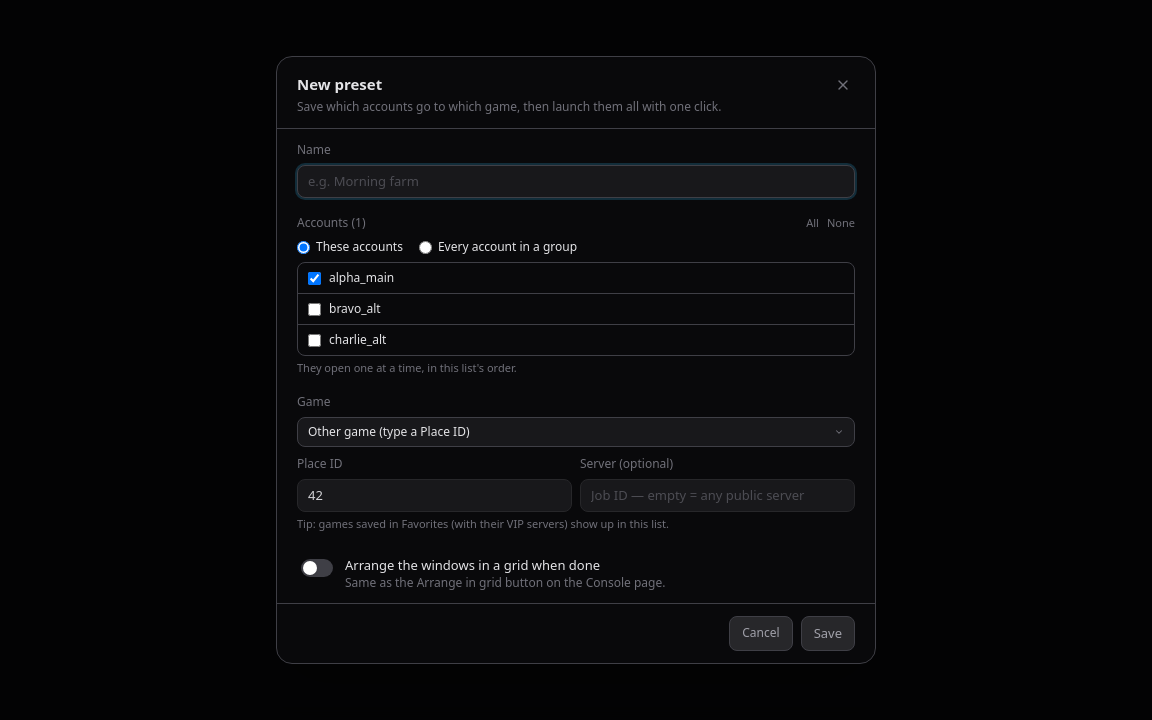
Test: PresetsDialog — editor › does not save without a name and says why
The width and height of the screenshot is (1152, 720).
Click the button "Save" at (828, 633), box [801,616,855,651]
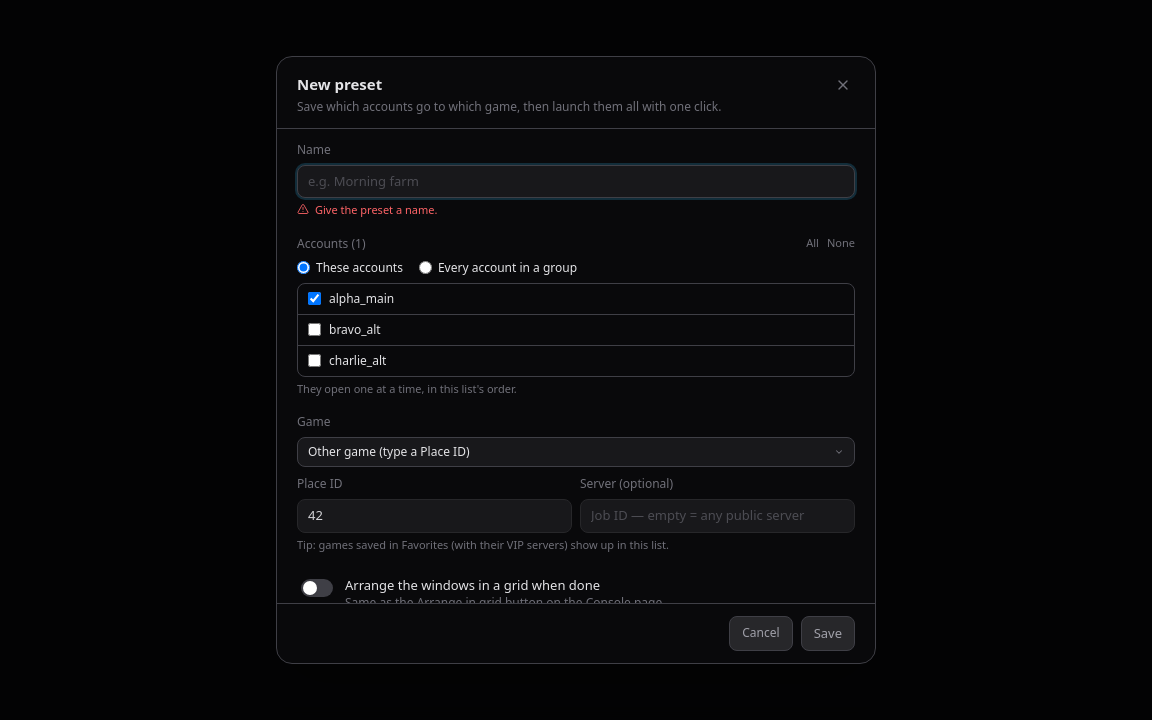
Result: the text "Give the preset a name." is shown at [315,202,437,218]
